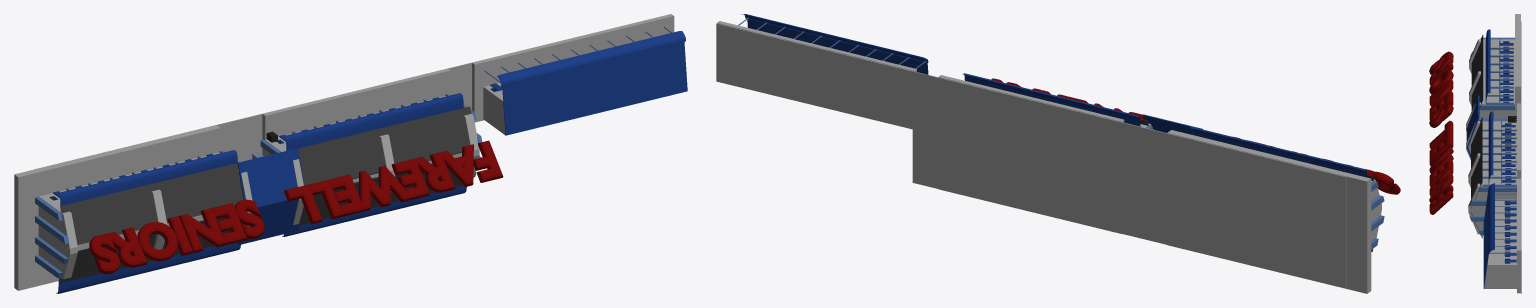
3 views of the same model, side by side, from view 1: azimuth 30°, elevation 25°; view 2: azimuth 150°, elevation 25°; view 3: azimuth 270°, elevation 25° (orthographic). The views are drawn at different scales.
Parts seen in each view (by area): view 1: Text_Text.004, Cube.026_Cube.1112, Cube.016_Cube.1103, roof_plane.005_Cube.1041, roof_plane.007_Cube.1032, Cube.021_Cube.1104, Cube.027_Cube.1113, Cube.020_Cube.1045, helmet.012_BezierCurve.013, main_block.004_Cube.1039, helmet.004_BezierCurve.004, Cube.022_Cube.1106 (+7 smaller); view 2: Cube.022_Cube.1106, Cube.016_Cube.1103, Cube.026_Cube.1112, helmet.004_BezierCurve.004, helmet.012_BezierCurve.013, Cube.021_Cube.1104, BezierCurve.002_BezierCurve.007, Text_Text.004, Cube.027_Cube.1113, Cube.020_Cube.1045; view 3: Text_Text.004, main_block.007_Cube.1034, Cube.025_Cube.1111, main_block.004_Cube.1039, side_11.024_Cube.975, roof_plane.007_Cube.1032, roof_plane.005_Cube.1041, Cube.016_Cube.1103, Cube.017_Cube.1036, Cube.460_Cube.985, side_11.010_Cube.1042, BezierCurve.002_BezierCurve.007 (+12 smaller).
Boxes of the visible parts, bbox=[...] form: Text_Text.004: bbox=[89, 140, 503, 274]; Cube.026_Cube.1112: bbox=[502, 41, 687, 135]; Cube.016_Cube.1103: bbox=[14, 125, 220, 290]; roof_plane.005_Cube.1041: bbox=[60, 163, 242, 246]; roof_plane.007_Cube.1032: bbox=[298, 106, 471, 185]; Cube.021_Cube.1104: bbox=[262, 68, 450, 155]; Cube.027_Cube.1113: bbox=[472, 14, 674, 122]; Cube.020_Cube.1045: bbox=[237, 148, 304, 245]; helmet.012_BezierCurve.013: bbox=[284, 93, 463, 150]; main_block.004_Cube.1039: bbox=[38, 152, 252, 279]; helmet.004_BezierCurve.004: bbox=[58, 150, 237, 205]; Cube.022_Cube.1106: bbox=[35, 15, 663, 169]; Cube.022_Cube.1106: bbox=[716, 23, 1346, 288]; Cube.016_Cube.1103: bbox=[1167, 130, 1371, 293]; Cube.026_Cube.1112: bbox=[747, 18, 928, 74]; helmet.004_BezierCurve.004: bbox=[1190, 127, 1367, 177]; helmet.012_BezierCurve.013: bbox=[962, 73, 1140, 126]; Cube.021_Cube.1104: bbox=[938, 75, 1124, 233]; BezierCurve.002_BezierCurve.007: bbox=[741, 14, 928, 62]; Text_Text.004: bbox=[991, 78, 1400, 194]; Cube.027_Cube.1113: bbox=[717, 21, 916, 71]; Cube.020_Cube.1045: bbox=[1142, 114, 1202, 134]; Text_Text.004: bbox=[1429, 51, 1453, 214]; main_block.007_Cube.1034: bbox=[1466, 121, 1516, 234]; Cube.025_Cube.1111: bbox=[1484, 199, 1516, 288]; main_block.004_Cube.1039: bbox=[1466, 39, 1514, 131]; side_11.024_Cube.975: bbox=[1482, 129, 1516, 186]; roof_plane.007_Cube.1032: bbox=[1471, 117, 1482, 208]; roof_plane.005_Cube.1041: bbox=[1471, 35, 1483, 110]; Cube.016_Cube.1103: bbox=[1515, 14, 1520, 119]; Cube.017_Cube.1036: bbox=[1500, 41, 1513, 102]; Cube.460_Cube.985: bbox=[1502, 123, 1515, 184]; side_11.010_Cube.1042: bbox=[1486, 47, 1513, 104]; BezierCurve.002_BezierCurve.007: bbox=[1488, 183, 1494, 254].
Bounding box in the file's own units: 16.82 × 2.78 × 2.77.
